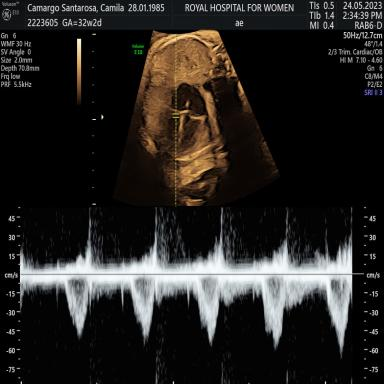Ultrasound-Waves: (28, 206, 352, 384)
